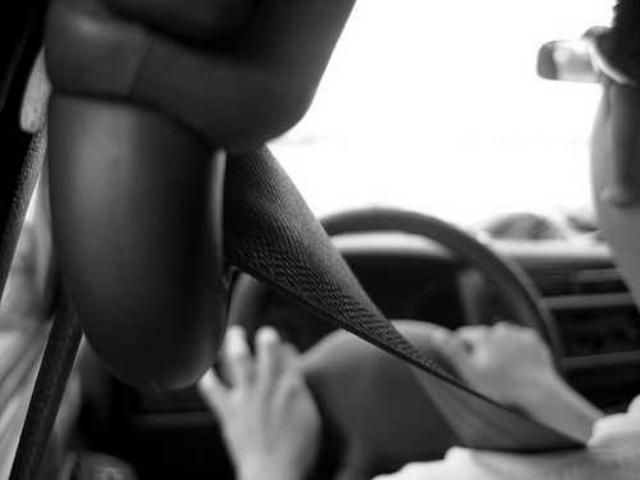Seatbelt: (152, 127, 596, 459)
